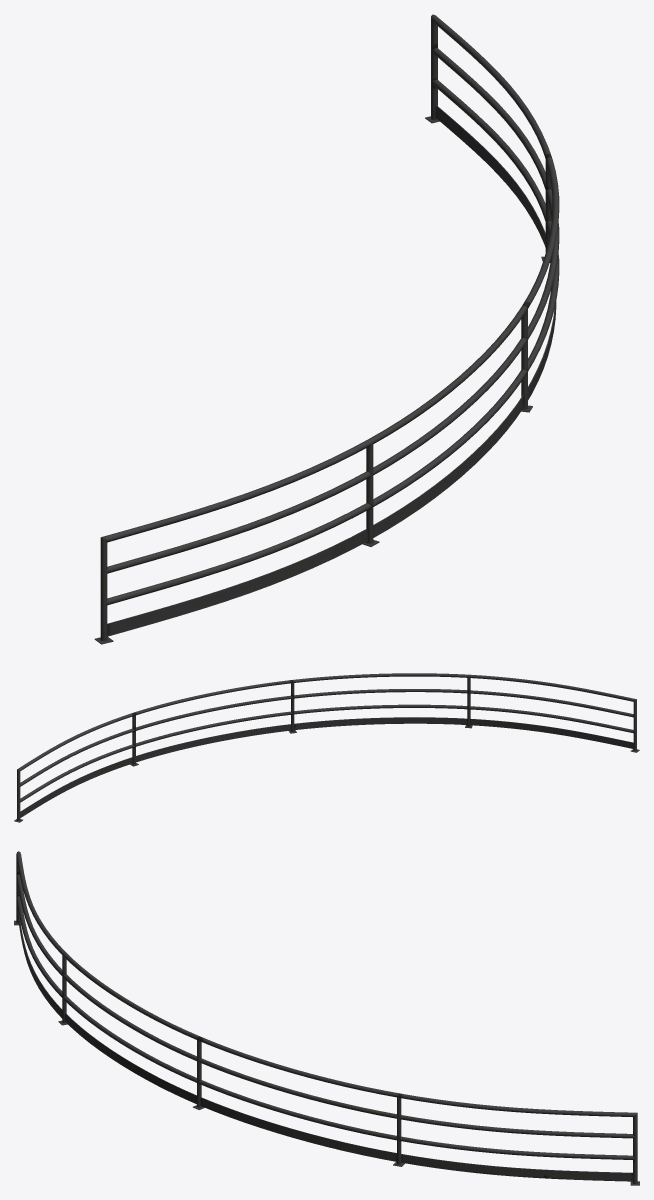
3 renders of one model, top to bottom at view 1: azimuth 30°, elevation 25°; view 2: azimuth 150°, elevation 25°; view 3: azimuth 270°, elevation 25°, orthographic. The views are drawn at different scales.
Parts seen in each view (by area): view 1: body0_model0_lod0_mesh0; view 2: body0_model0_lod0_mesh0; view 3: body0_model0_lod0_mesh0.
Boxes of the visible parts, x1,y1,x2,y2 form: body0_model0_lod0_mesh0: (94,14,559,644); body0_model0_lod0_mesh0: (14,673,639,822); body0_model0_lod0_mesh0: (14,851,639,1185).
Bounding box in the file's own units: 264 × 33 × 264.
Materials: 1 (1 with a texture image).
